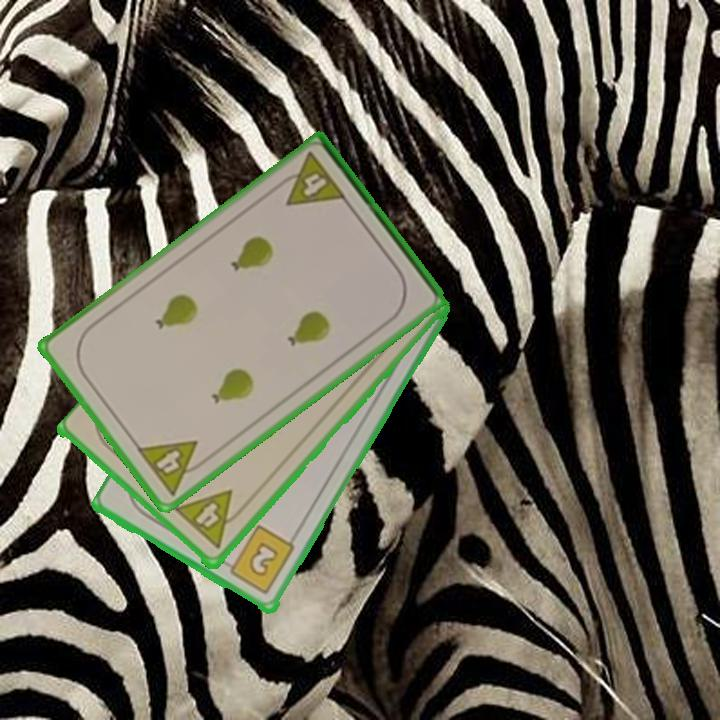2b: (219, 522, 298, 598)
4p: (171, 487, 250, 553), (133, 437, 213, 499), (272, 149, 349, 210)
